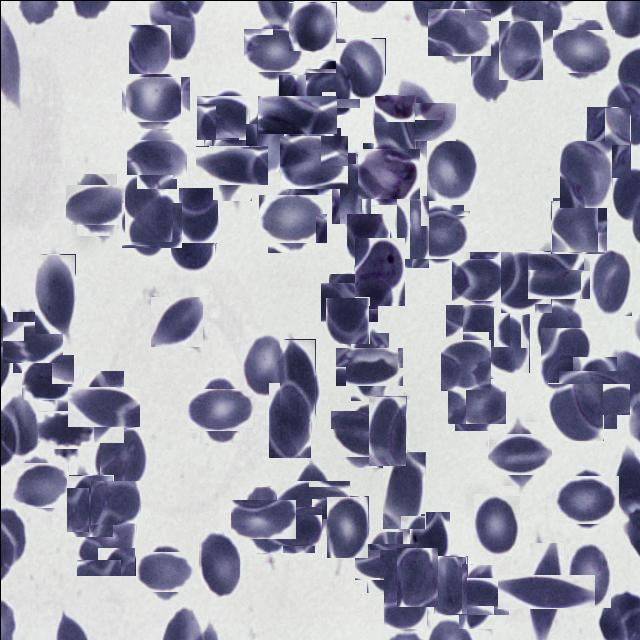red blood cell: (512, 558, 578, 624), (76, 507, 135, 575), (282, 130, 344, 192), (262, 188, 321, 248), (559, 140, 611, 207), (268, 84, 326, 144), (565, 364, 623, 422), (382, 451, 425, 528), (426, 134, 476, 200), (34, 253, 75, 333), (389, 92, 446, 149), (547, 382, 603, 440), (126, 70, 184, 126), (124, 174, 172, 241), (500, 250, 551, 312), (268, 382, 310, 457), (559, 471, 615, 527), (285, 472, 341, 528), (74, 378, 130, 434), (335, 406, 391, 462), (202, 136, 258, 192), (586, 106, 630, 177), (534, 303, 586, 363), (373, 94, 415, 168), (383, 558, 426, 630), (431, 4, 486, 60), (335, 37, 385, 98), (279, 338, 315, 421), (412, 207, 466, 262), (449, 298, 504, 352), (245, 105, 290, 171), (192, 382, 246, 437), (531, 248, 585, 302), (551, 198, 605, 252), (473, 494, 520, 556), (66, 474, 113, 536), (540, 327, 589, 386), (331, 152, 371, 224), (492, 427, 546, 480), (199, 90, 252, 144), (557, 24, 610, 77), (342, 340, 396, 392), (124, 198, 178, 250), (590, 247, 631, 315), (482, 313, 529, 372), (13, 458, 65, 510), (450, 374, 502, 426), (236, 493, 288, 545), (568, 543, 610, 607), (243, 332, 286, 394), (368, 395, 406, 465), (70, 178, 121, 230), (99, 427, 146, 483), (326, 495, 368, 557), (247, 24, 298, 75), (7, 316, 58, 367), (452, 570, 502, 622), (150, 296, 202, 346), (498, 20, 542, 79), (470, 38, 511, 101), (198, 532, 238, 595), (131, 133, 181, 183), (454, 254, 504, 304), (440, 340, 490, 390), (139, 547, 189, 596), (22, 352, 72, 401), (396, 547, 437, 606), (396, 194, 429, 267), (323, 278, 372, 326), (288, 1, 336, 50), (170, 220, 214, 273), (360, 538, 408, 586), (176, 188, 216, 244), (42, 406, 88, 454), (308, 64, 356, 110), (270, 502, 318, 548), (346, 213, 389, 264), (90, 480, 139, 524), (409, 511, 449, 564), (325, 296, 369, 343), (128, 24, 170, 73), (432, 555, 467, 613)
ring: (354, 237, 404, 305), (360, 144, 416, 202)
